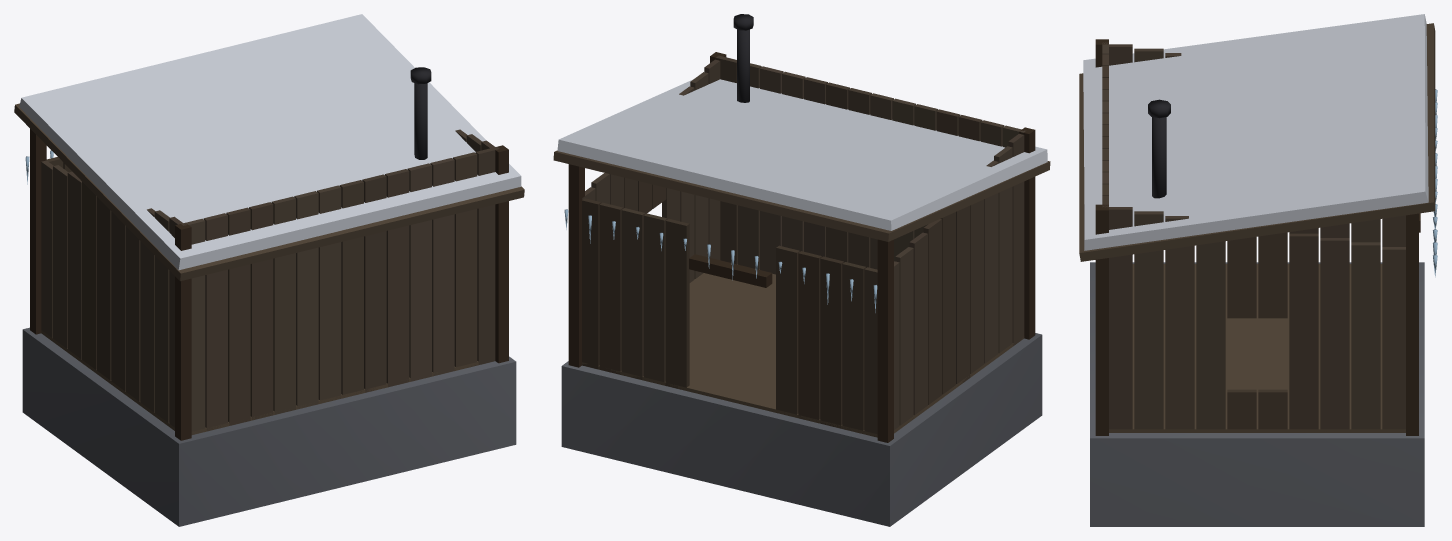
File: workshop_shed.glb
3 renders of one model, left to right at view 1: azimuth 30°, elevation 25°; view 2: azimuth 150°, elevation 25°; view 3: azimuth 270°, elevation 25°, orthographic. The views are drawn at different scales.
Visible parts, largest first — view 1: workshop_shed; view 2: workshop_shed; view 3: workshop_shed.
Boxes of the visible parts, x1=… form: workshop_shed: x1=14, y1=14, x2=524, y2=526; workshop_shed: x1=553, y1=14, x2=1050, y2=526; workshop_shed: x1=1079, y1=14, x2=1437, y2=526.
Size of what is drawn, in the model's own units: 5.2 by 5.27 by 4.39.
